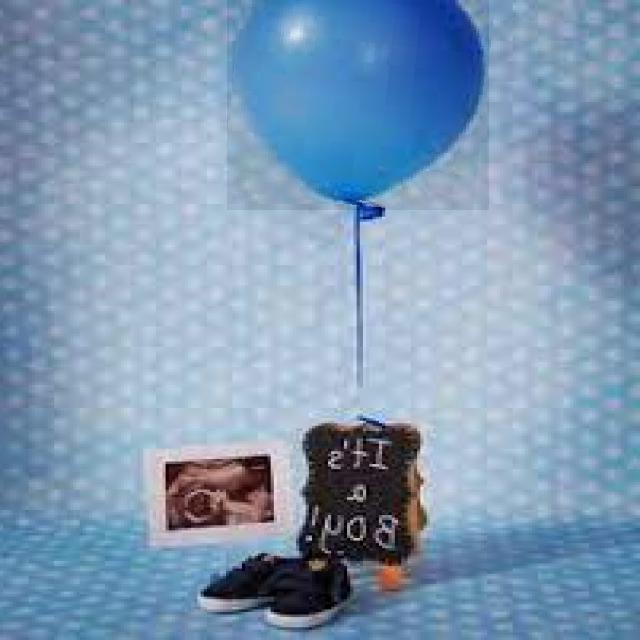balloon: (219, 0, 494, 205)
